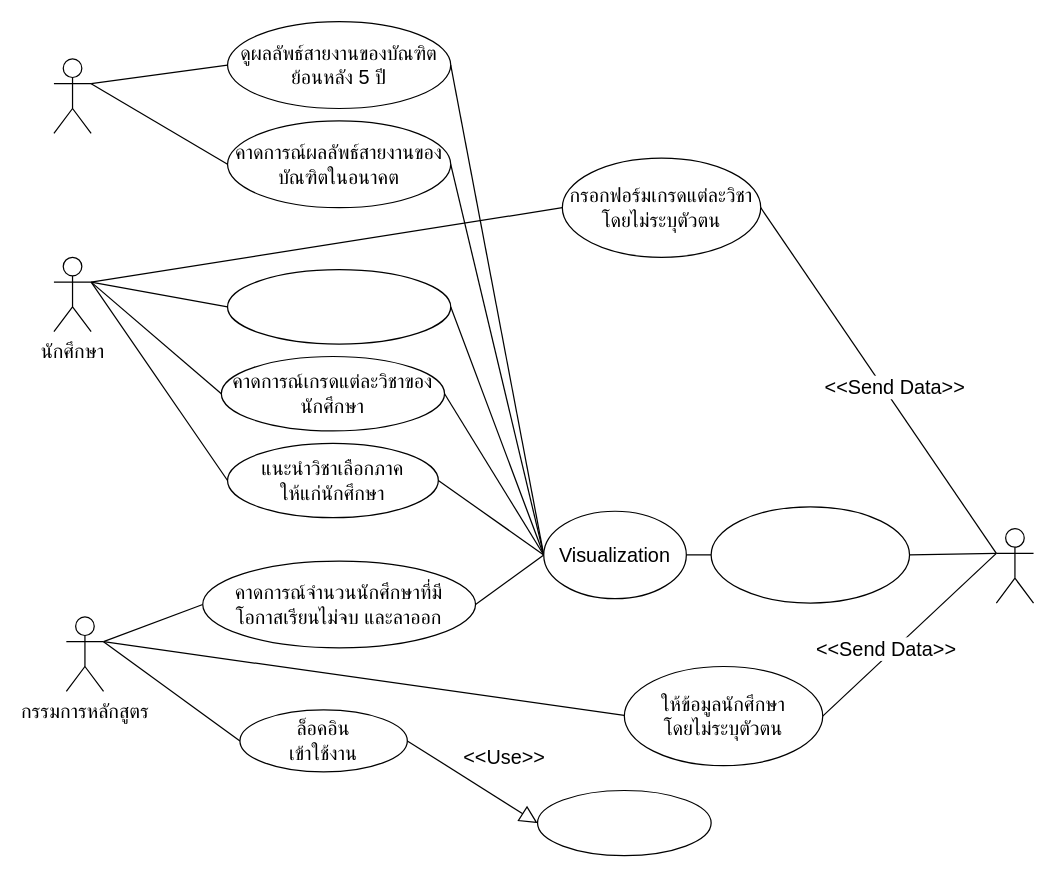
The diagram is 1063 pixels wide and 878 high, and some of its shapes have lost their labels. The centre of each missing label's shape, as x and y in pixels:
ทำนายพยากรณ์ ผลลัพธ์และคาดการณ์: the point at 810,554
บุคคลทั่วไป: the point at 72,95
ล็อคเอ้าท์ ออกจากระบบ: the point at 623,822
แสดงค่าความถนัดของนักศึกษา: the point at 338,306
แอดมิน: the point at 1014,565
